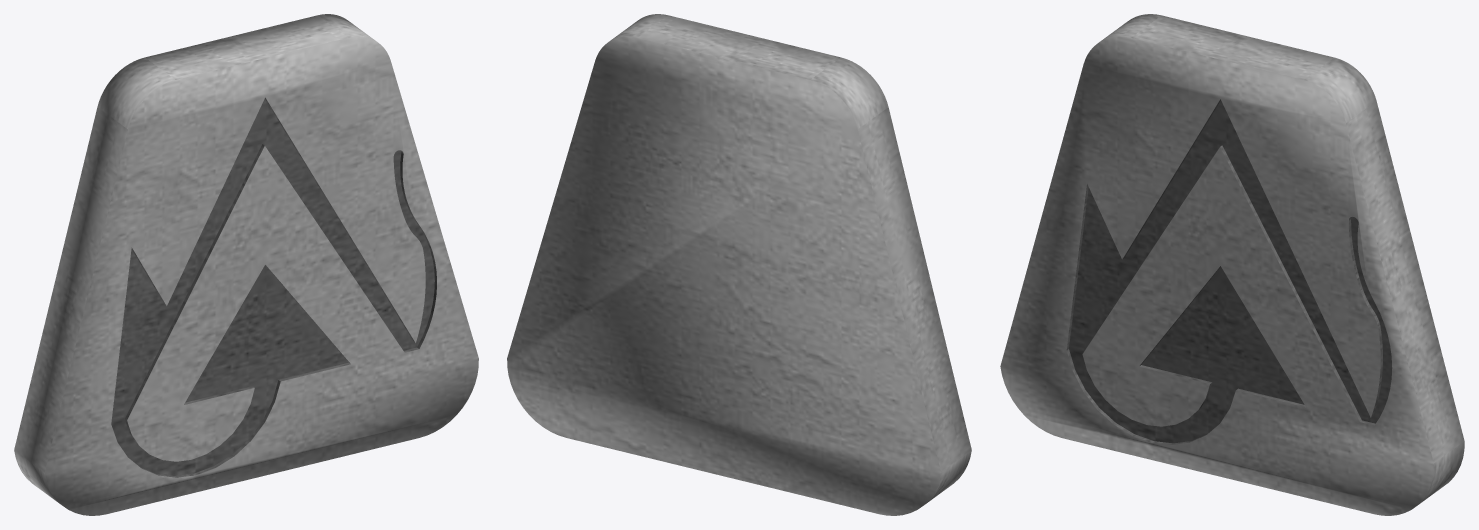
3 views of the same model, side by side, from view 1: azimuth 30°, elevation 25°; view 2: azimuth 150°, elevation 25°; view 3: azimuth 330°, elevation 25° (orthographic).
Visible parts, largest first — view 1: SketchUp (×2); view 2: SketchUp; view 3: SketchUp (×2).
Part boxes in pixels (x1=…): SketchUp (×2): x1=14, y1=14, x2=478, y2=515; SketchUp: x1=507, y1=14, x2=971, y2=515; SketchUp (×2): x1=1000, y1=14, x2=1464, y2=515.
Size of the model in its own units: 13.73 by 1.69 by 12.62.
Materials: 2 (2 with a texture image).
